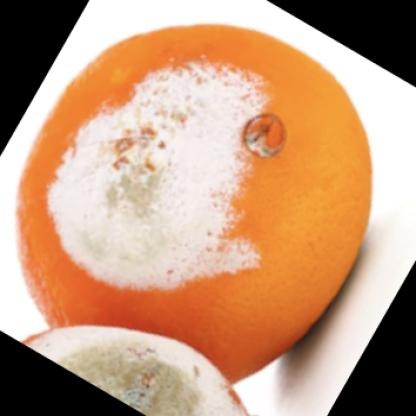rotten: (15, 27, 374, 381)
